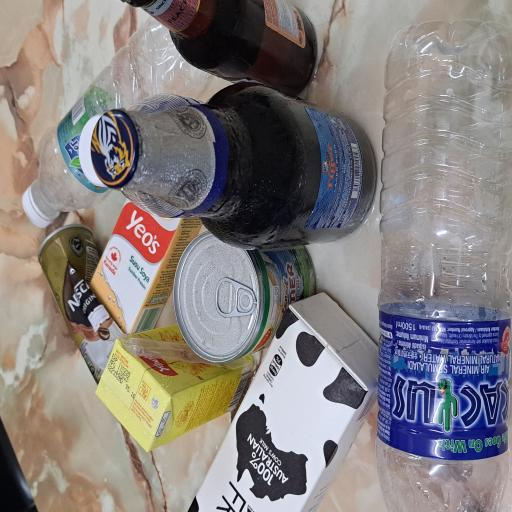can: (112, 232, 208, 419), (89, 52, 217, 164)
drink carton: (3, 244, 166, 507), (47, 126, 146, 343), (136, 123, 264, 268)
glass bottle: (200, 126, 323, 512), (315, 135, 384, 425)
plastic bottle: (225, 54, 365, 266)
plastic bottle cap: (212, 32, 244, 68)
pop tab: (148, 280, 174, 346)
